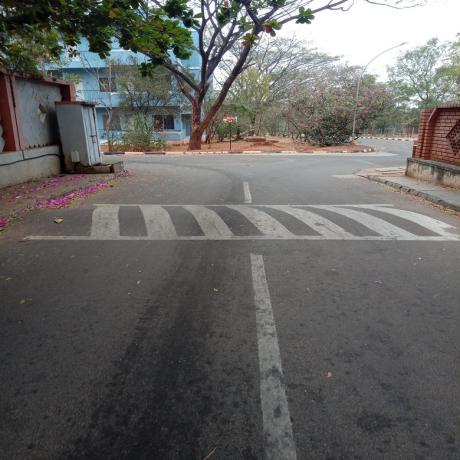Speed Bump: (4, 202, 460, 241)
